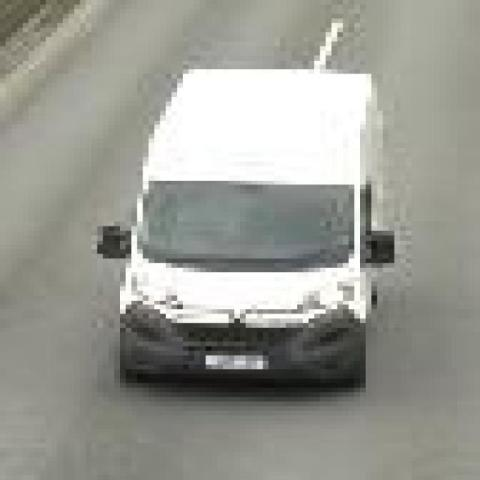van: (120, 67, 388, 386)
